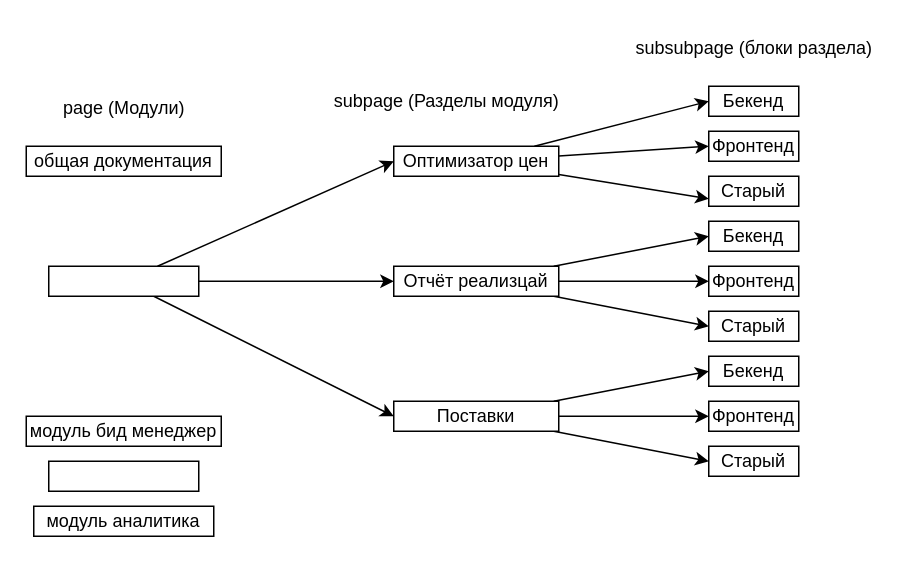
This 915x563 diagram has some shape labels left out. Here are the shapes that lost their labels. From the top down, the box of each, then its label:
(47, 265, 199, 296): модуль продаж
(47, 460, 199, 491): модуль сео
